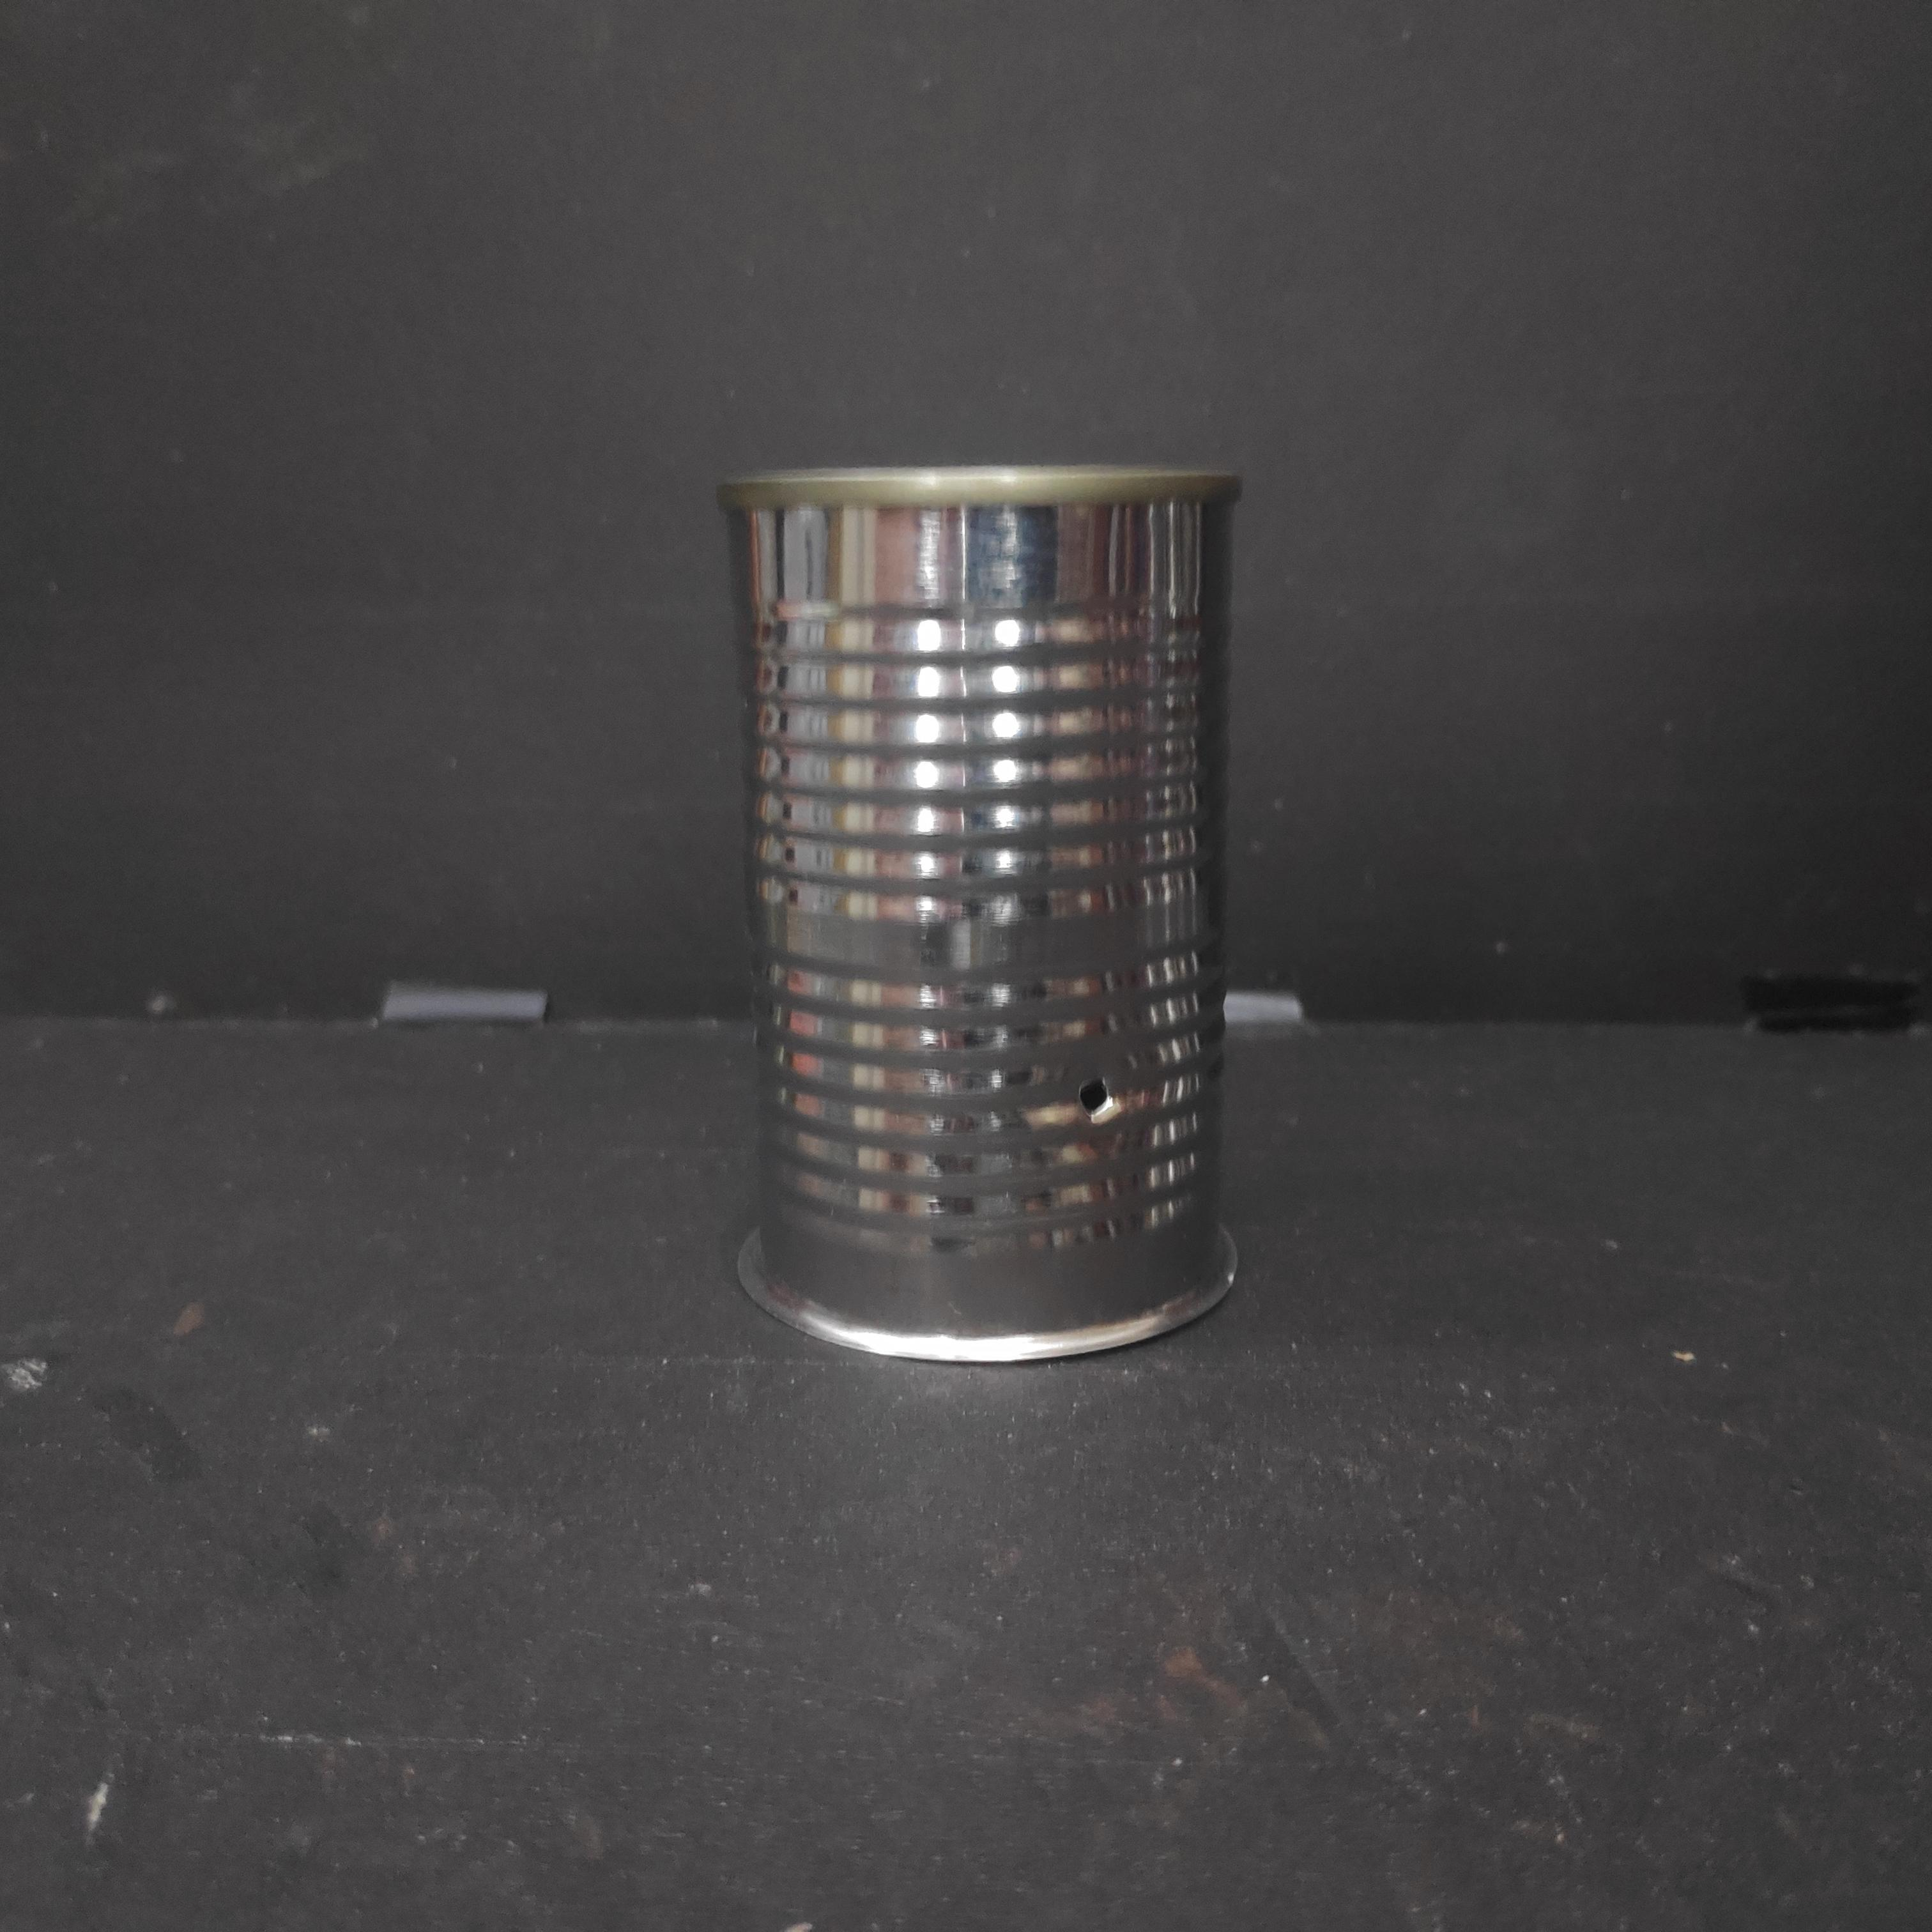Critical Defect: (704, 455, 1258, 1380)
